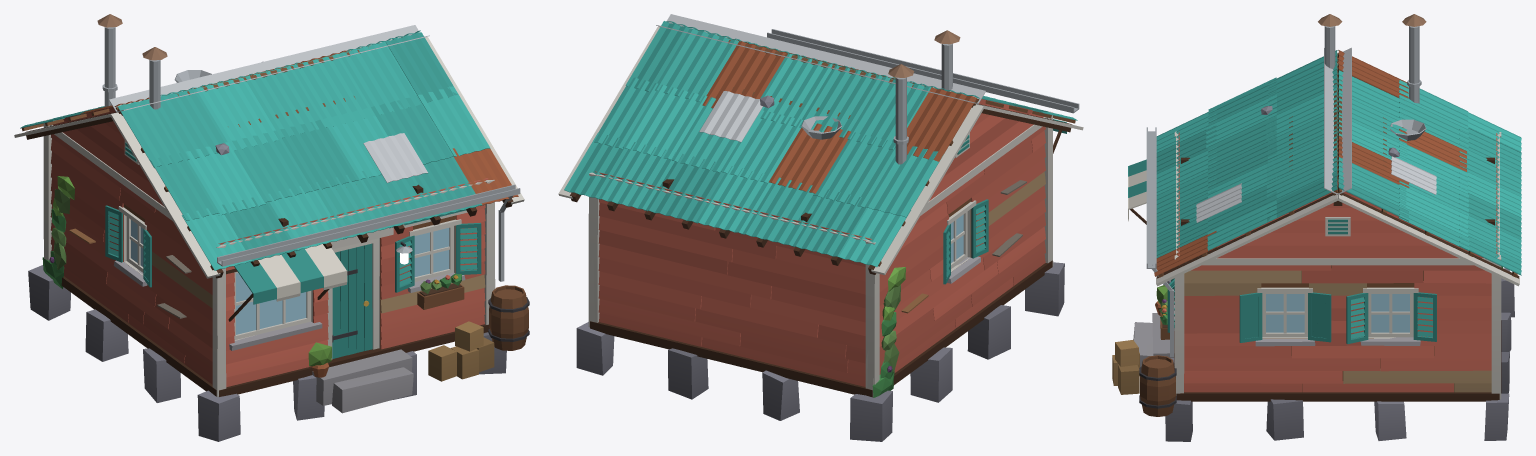
The picture shows the model from 3 angles, left to right: view 1: azimuth 30°, elevation 25°; view 2: azimuth 150°, elevation 25°; view 3: azimuth 270°, elevation 25°; orthographic projection. The views are drawn at different scales.
Visible parts, largest first — view 1: P06_ROOF, P06_WALL_E, P06_WALL_S, P06_BASE, P06_DOOR_main; view 2: P06_ROOF, P06_WALL_W, P06_WALL_S, P06_BASE, P06_WALL_E, P06_WALL_N; view 3: P06_ROOF, P06_WALL_N, P06_BASE, P06_WALL_E, P06_WALL_W.
Boxes of the visible parts, x1,y1,x2,y2 form: P06_ROOF: [14, 14, 524, 278]; P06_WALL_E: [217, 178, 529, 396]; P06_WALL_S: [42, 107, 226, 396]; P06_BASE: [28, 265, 506, 441]; P06_DOOR_main: [332, 243, 372, 358]; P06_ROOF: [558, 14, 1083, 275]; P06_WALL_W: [589, 171, 875, 396]; P06_WALL_S: [865, 99, 1053, 397]; P06_BASE: [576, 260, 1064, 441]; P06_WALL_E: [767, 29, 1079, 254]; P06_WALL_N: [588, 171, 599, 327]; P06_ROOF: [1154, 14, 1521, 286]; P06_WALL_N: [1175, 178, 1501, 399]; P06_BASE: [1133, 268, 1514, 441]; P06_WALL_E: [1112, 127, 1179, 416]; P06_WALL_W: [1496, 132, 1501, 319].
Size of the model in its own units: 5.48 by 5.34 by 6.46.
